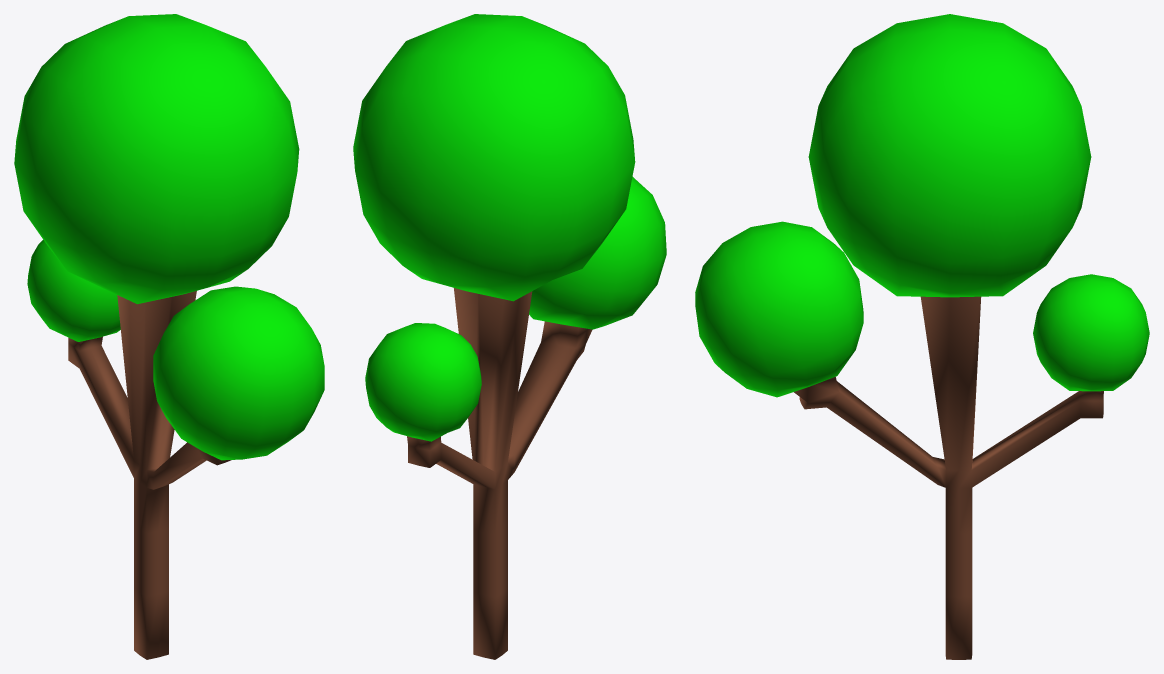
The model's file is racetrack_trees.fbx.
The picture shows the model from 3 angles, left to right: view 1: azimuth 30°, elevation 25°; view 2: azimuth 150°, elevation 25°; view 3: azimuth 270°, elevation 25°; orthographic projection.
Visible parts, largest first — view 1: Tree; view 2: Tree; view 3: Tree.
Boxes of the visible parts, x1=… form: Tree: x1=14, y1=14, x2=324, y2=659; Tree: x1=353, y1=14, x2=666, y2=659; Tree: x1=695, y1=14, x2=1149, y2=659.
Size of the model in its own units: 812 by 1984 by 1307.
